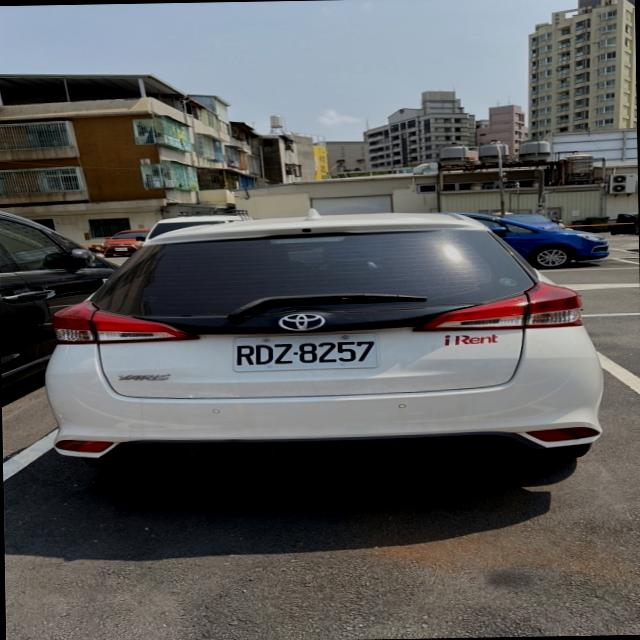license plate: (232, 333, 378, 371)
